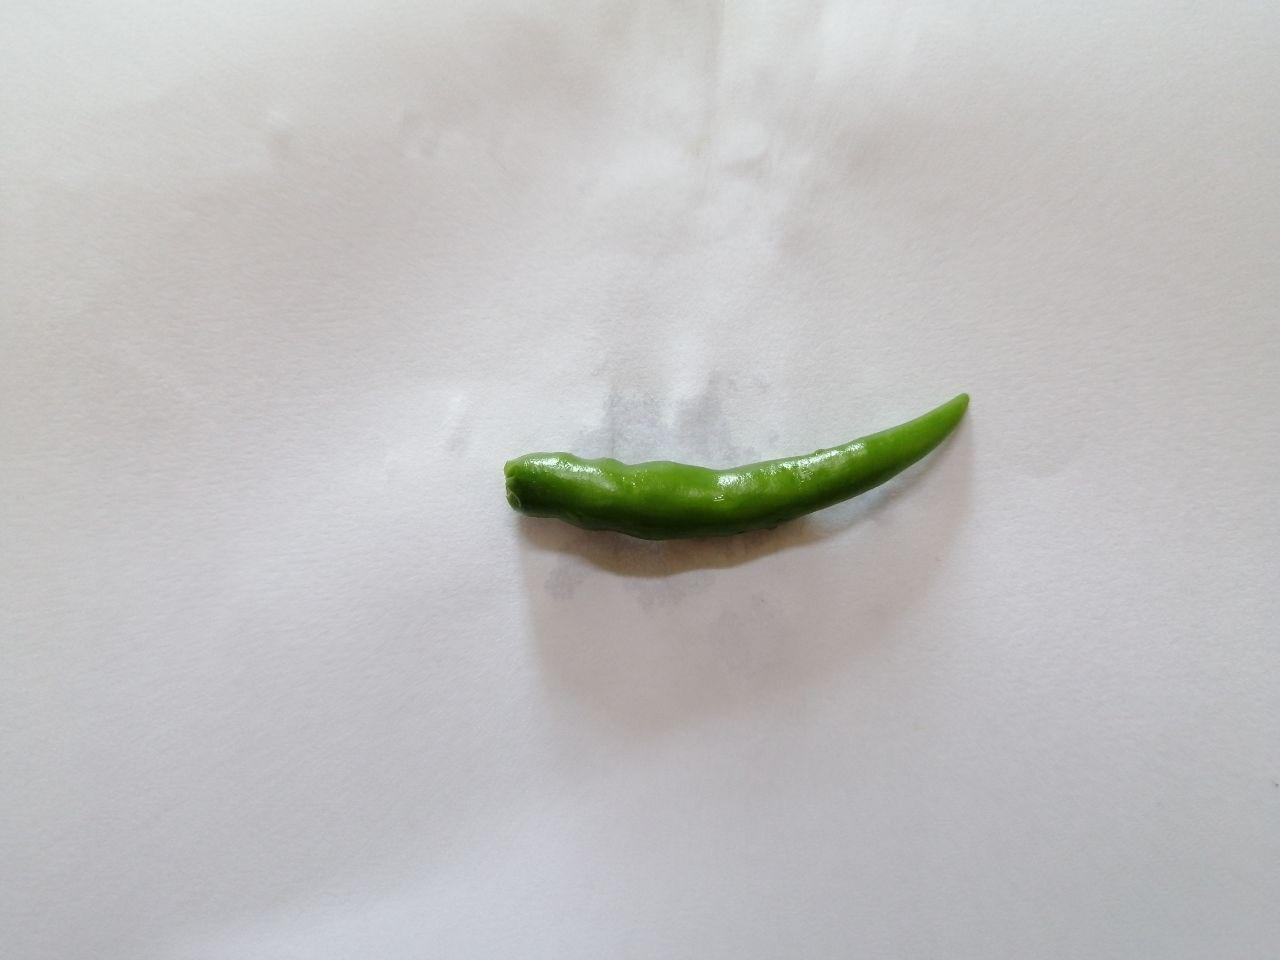lada hijau: (474, 374, 990, 586)
